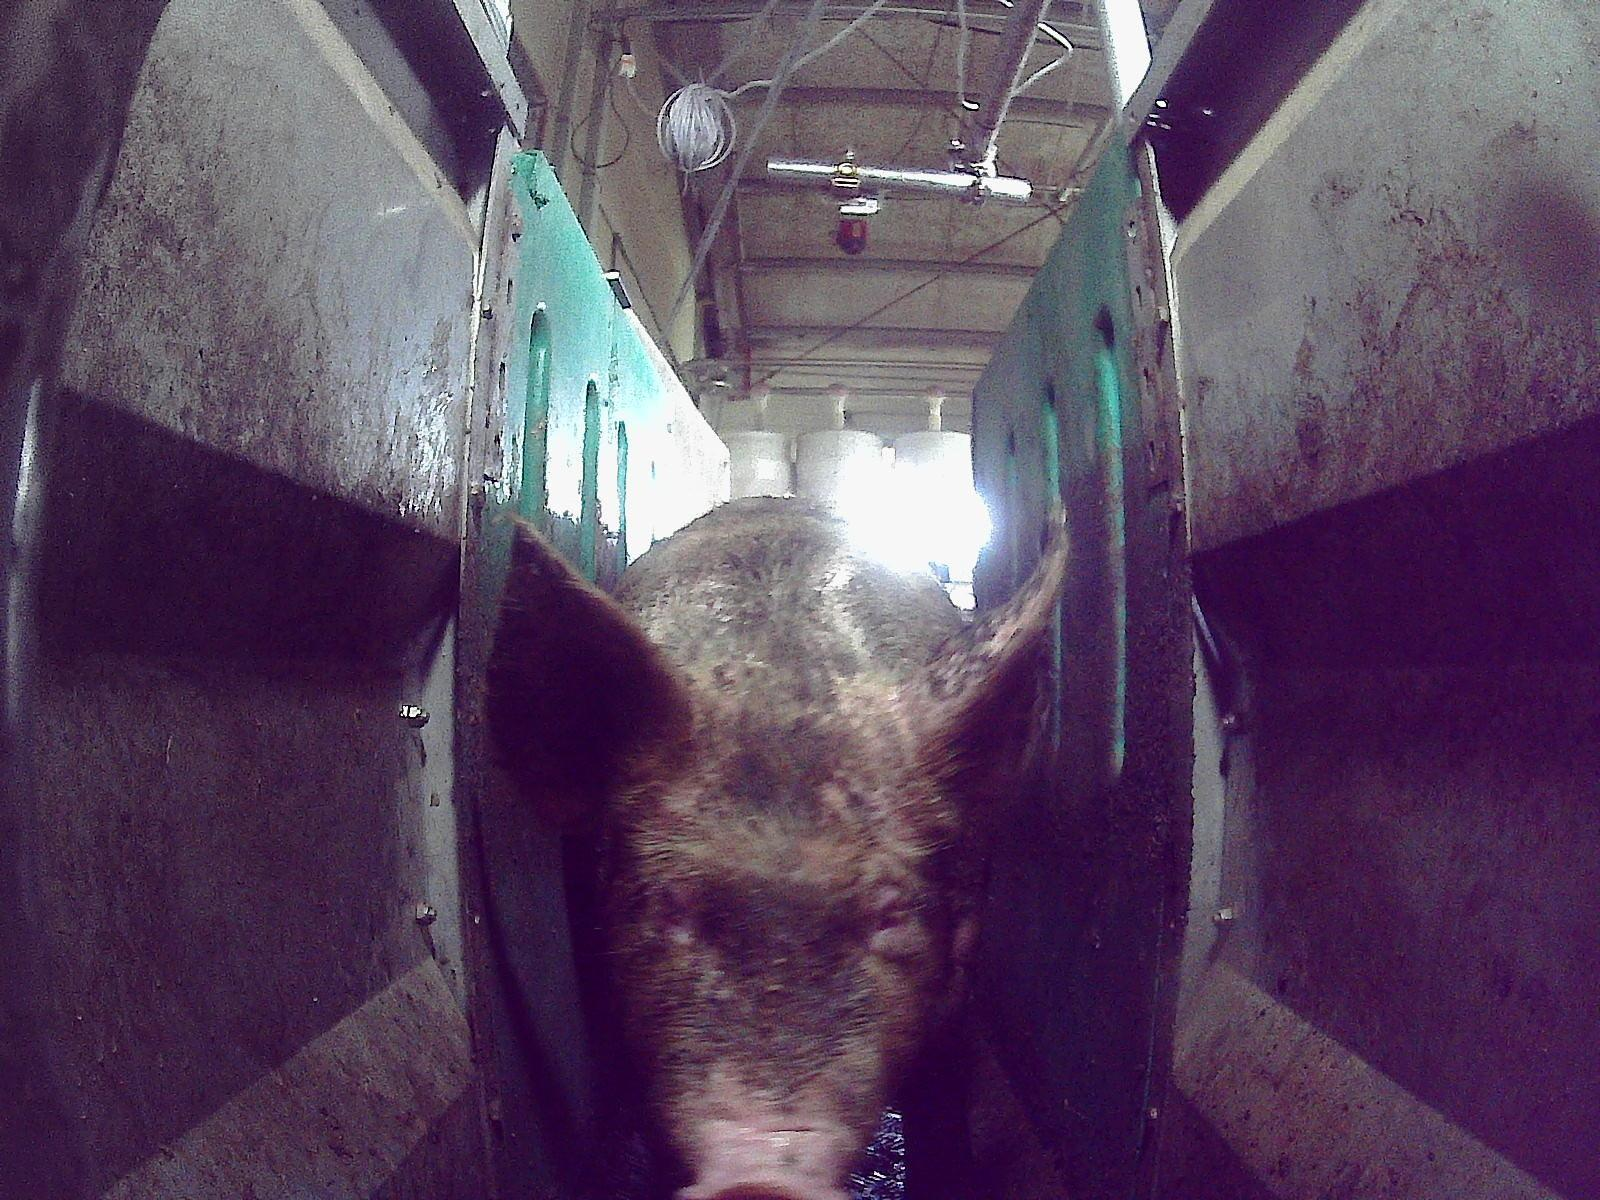Face: (574, 629, 959, 1199)
